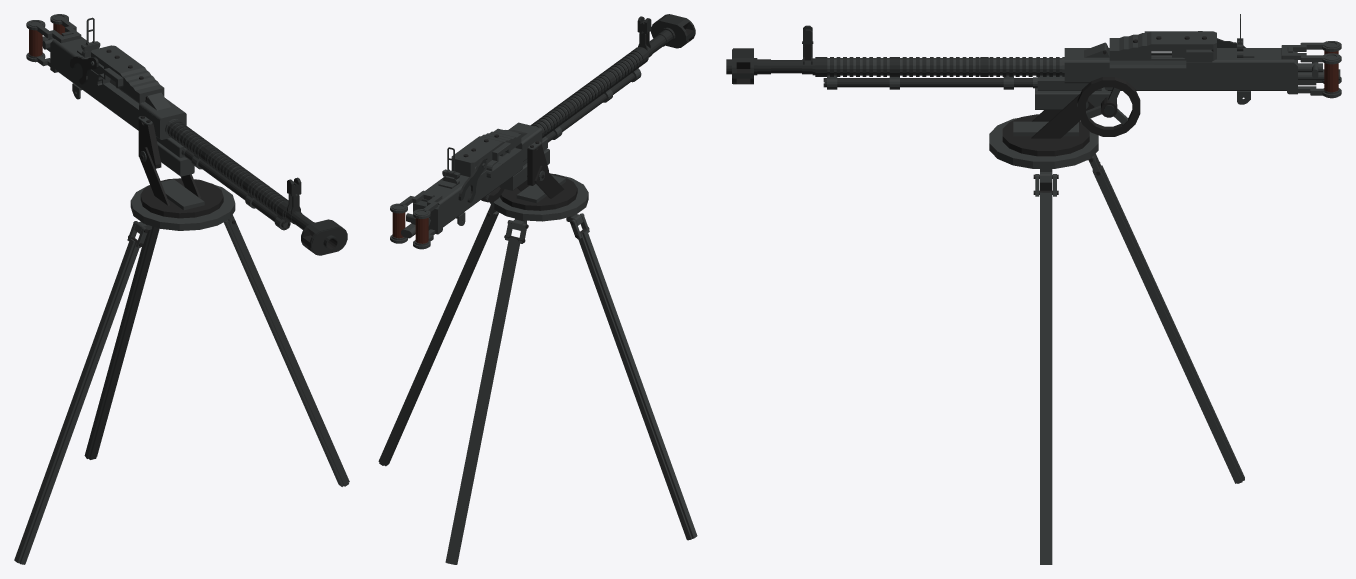
File: dshk.glb
The picture shows the model from 3 angles, left to right: view 1: azimuth 30°, elevation 25°; view 2: azimuth 150°, elevation 25°; view 3: azimuth 270°, elevation 25°; orthographic projection. The views are drawn at different scales.
Visible parts, largest first — view 1: Object_4, Object_3, Object_6, Object_8, Object_2, Object_7; view 2: Object_4, Object_3, Object_6, Object_8, Object_2, Object_5; view 3: Object_4, Object_3, Object_6, Object_8.
Part boxes in pixels (x1,y1,x2,y2): Object_4: (14,14,349,564); Object_3: (36,17,297,196); Object_6: (167,120,347,255); Object_8: (138,120,223,218); Object_2: (29,23,65,56); Object_7: (106,49,337,251); Object_4: (378,51,697,564); Object_3: (400,31,643,241); Object_6: (530,14,695,142); Object_8: (481,144,577,210); Object_2: (392,212,428,243); Object_5: (458,158,486,202); Object_4: (827,41,1341,564); Object_3: (802,14,1324,109); Object_6: (726,25,1114,115); Object_8: (1002,77,1140,156).
Bounding box in the file's own units: 9.68 × 12.24 × 14.6.
5 materials, 5 textured.
